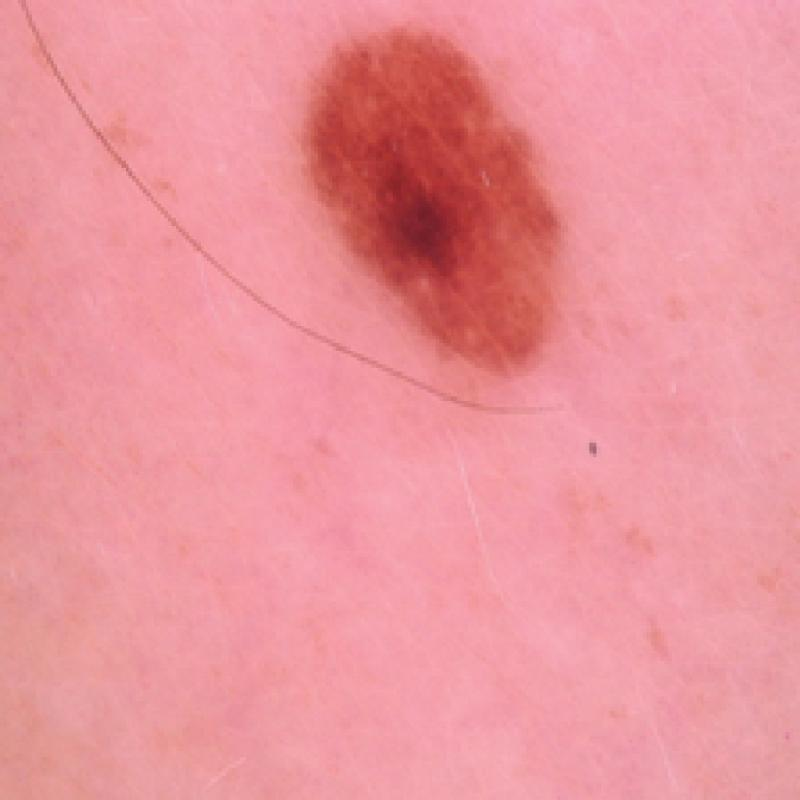benign: (282, 22, 592, 403)
